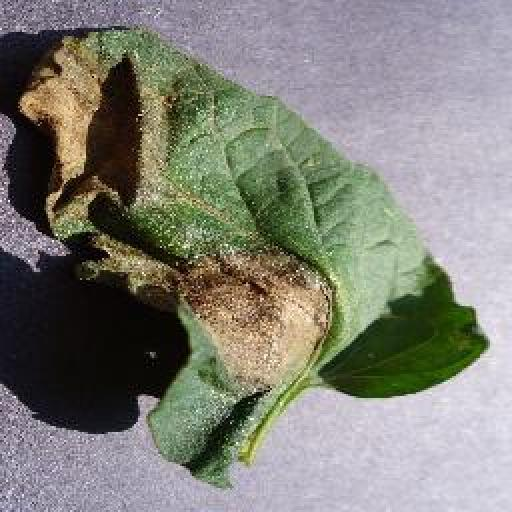disease_tomato: (19, 20, 489, 491)
